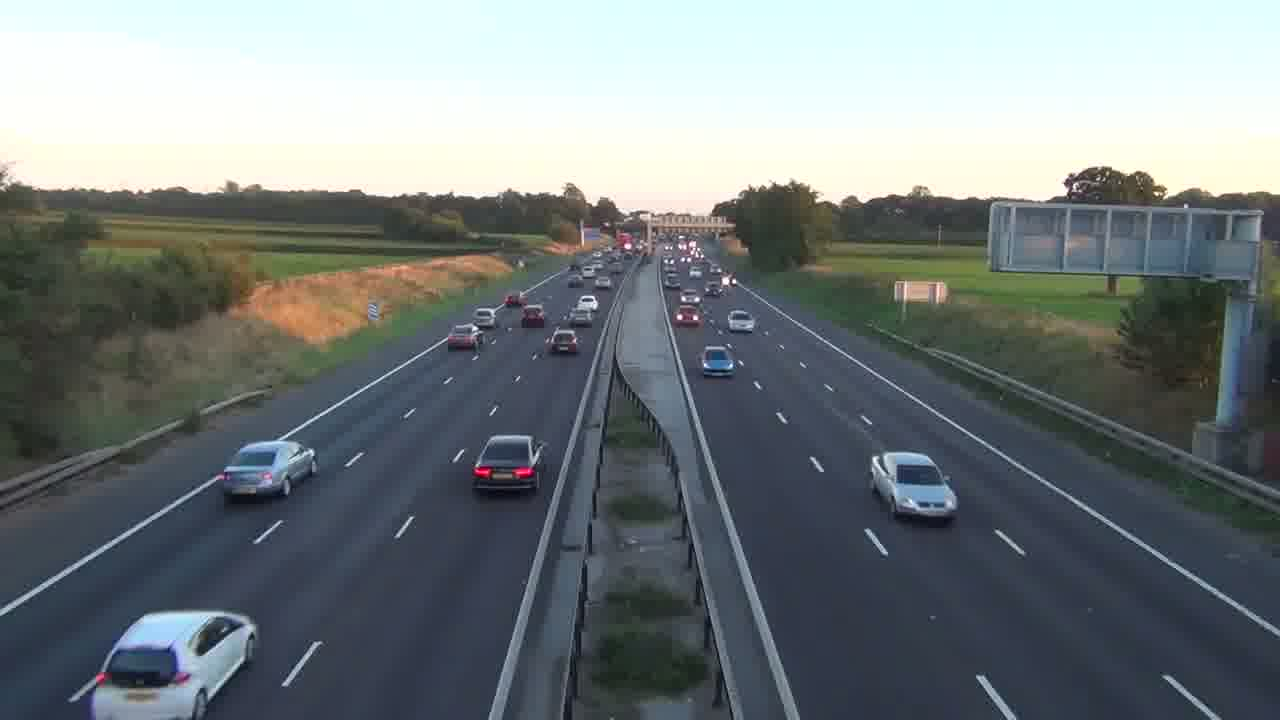car: (89, 608, 259, 719), (868, 450, 959, 523), (220, 439, 318, 502), (470, 433, 549, 497), (699, 344, 737, 378), (447, 323, 482, 352), (548, 329, 579, 355), (727, 308, 755, 334), (673, 305, 703, 327), (521, 304, 545, 328), (472, 306, 496, 328)
